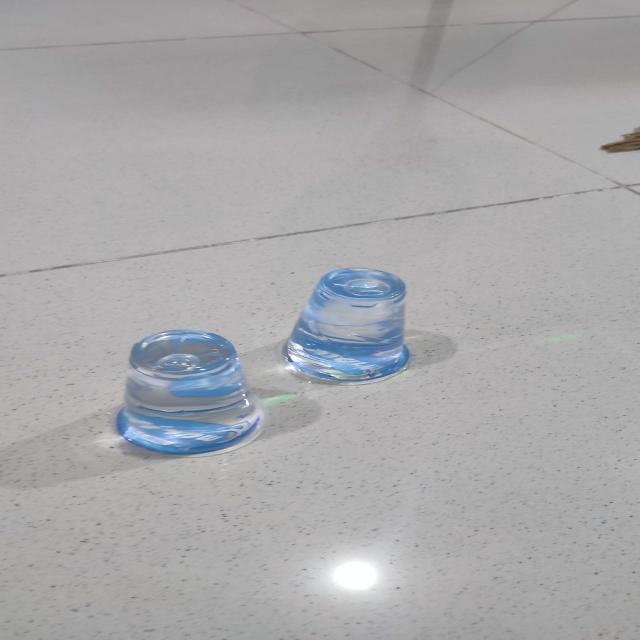air gelas: (93, 320, 257, 458), (269, 258, 419, 393)
